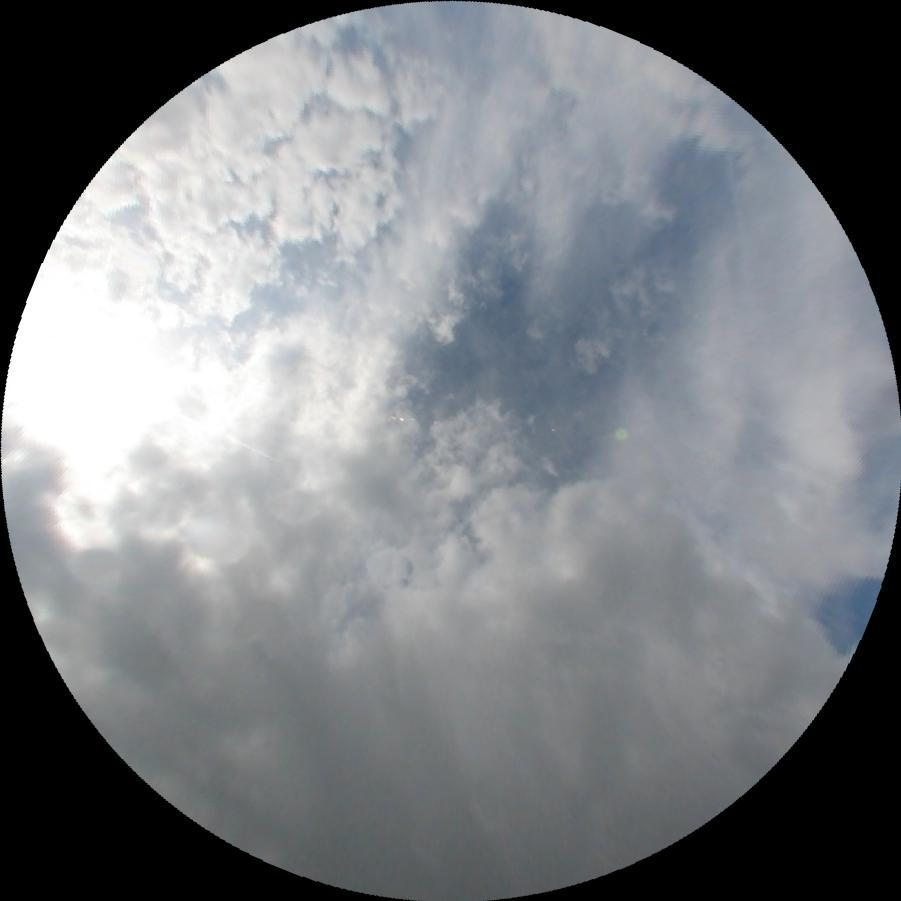parasite: (148, 397, 273, 460)
